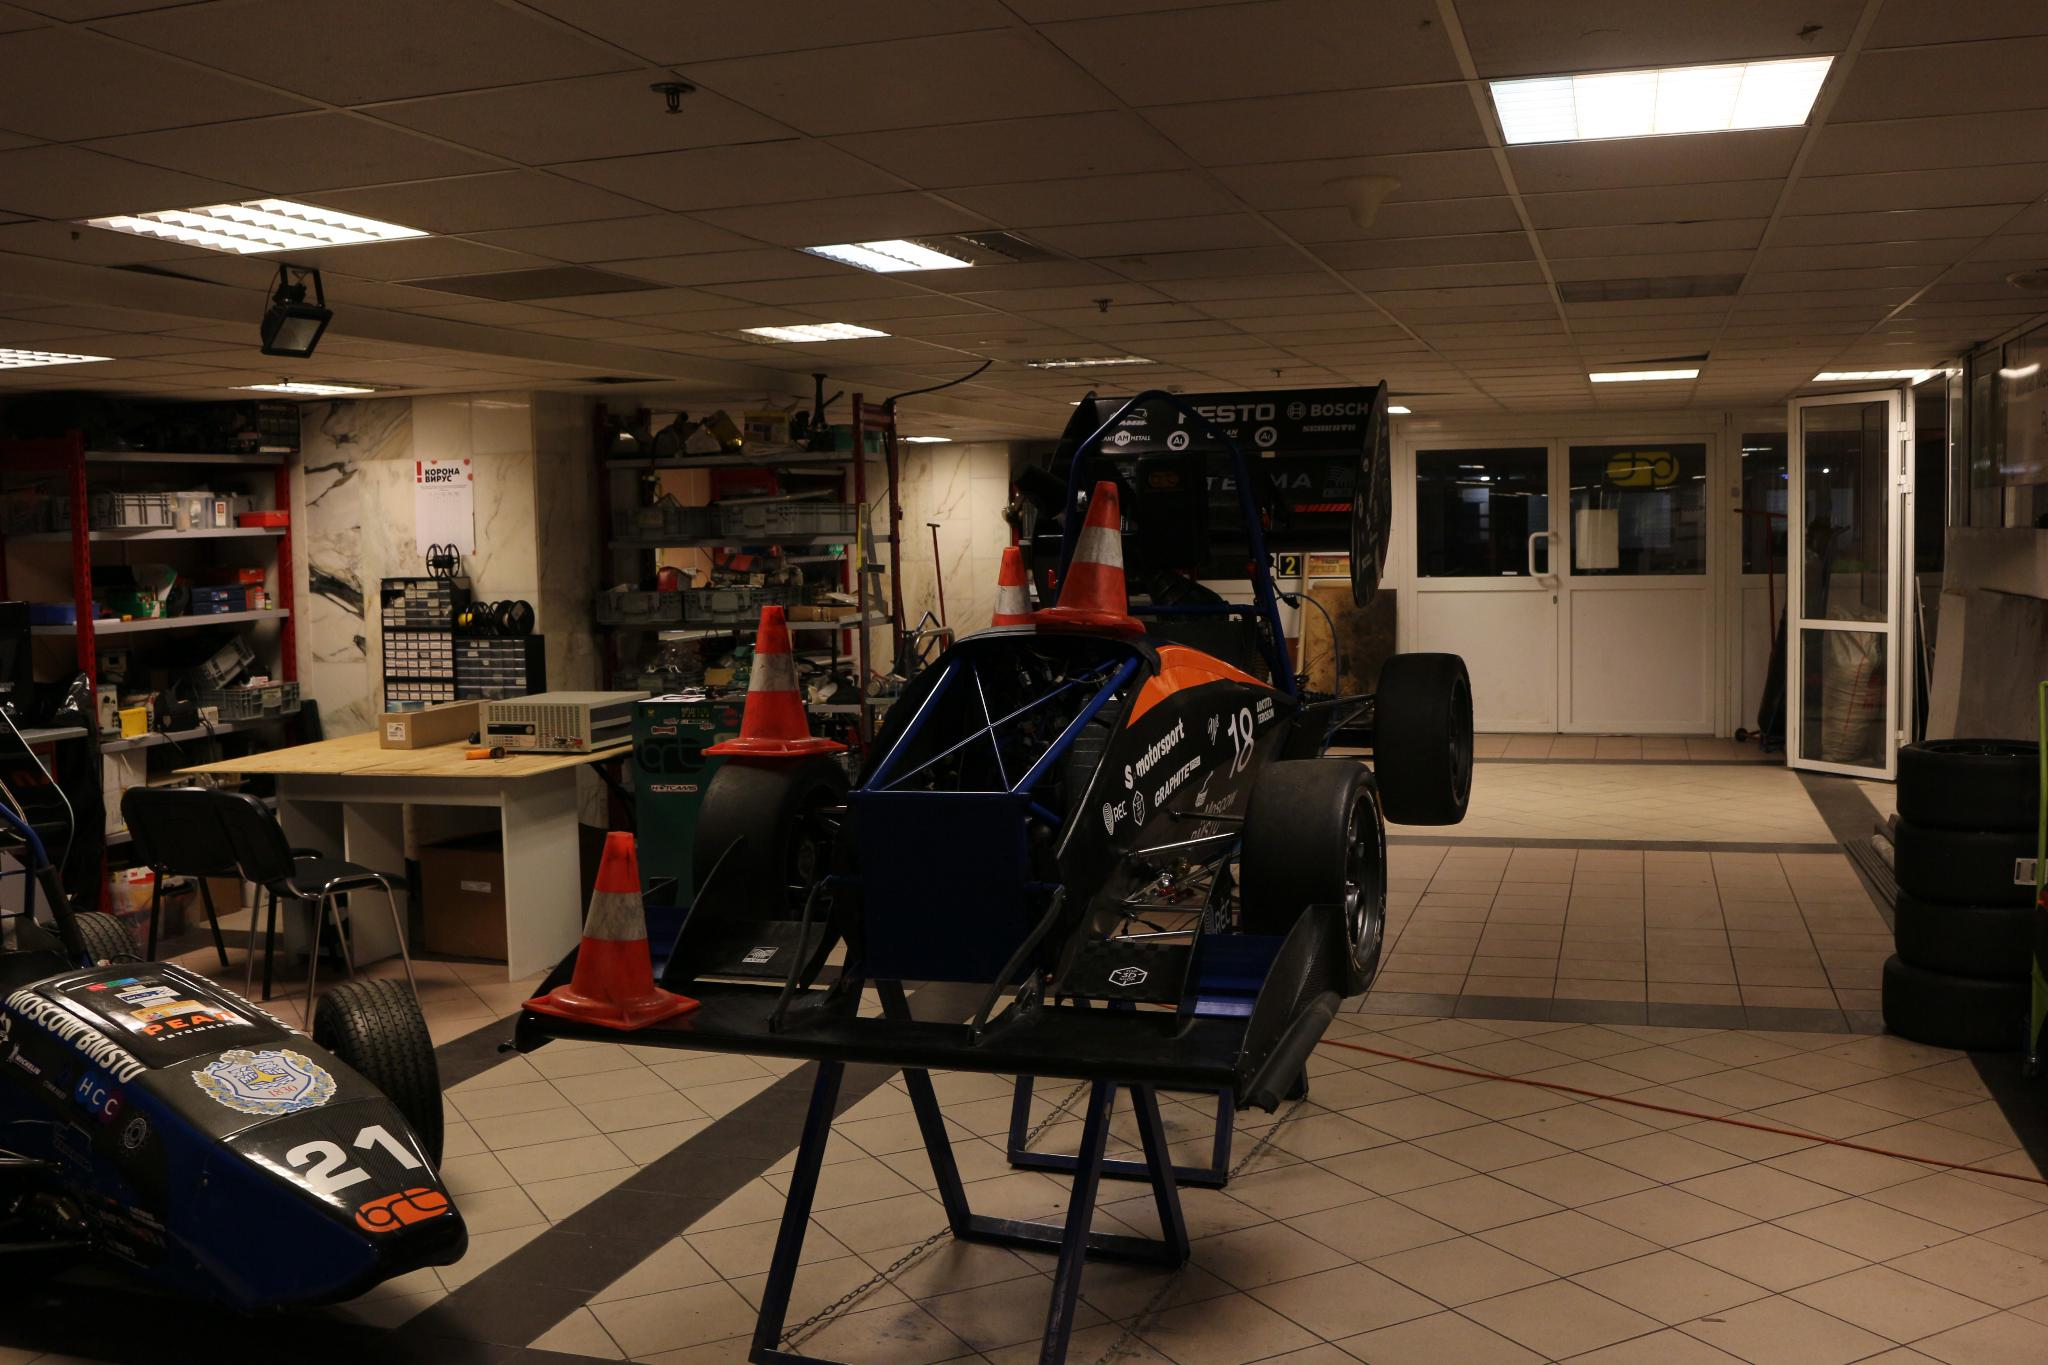Orange_Cone: (524, 817, 708, 1031), (699, 594, 845, 766), (1037, 463, 1153, 635), (967, 542, 1046, 692)
